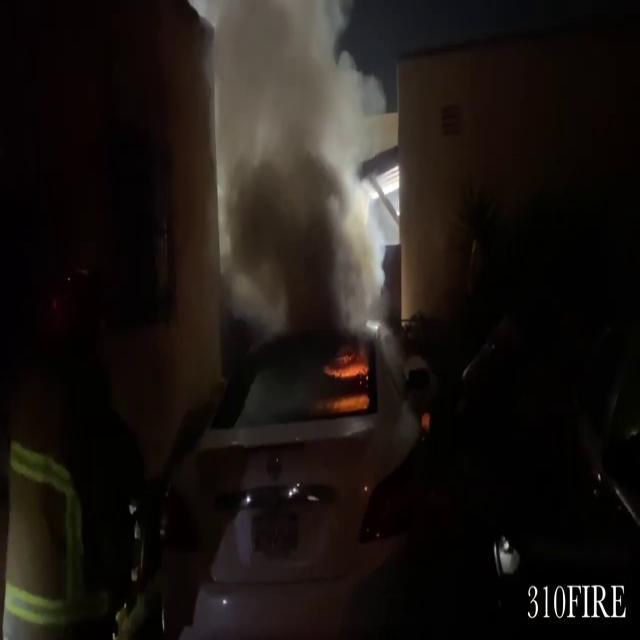Smoke: (210, 0, 382, 364)
